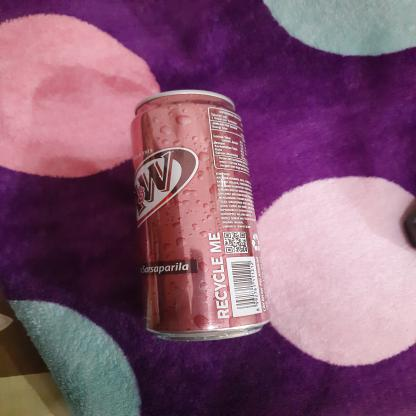can: (126, 86, 273, 344)
